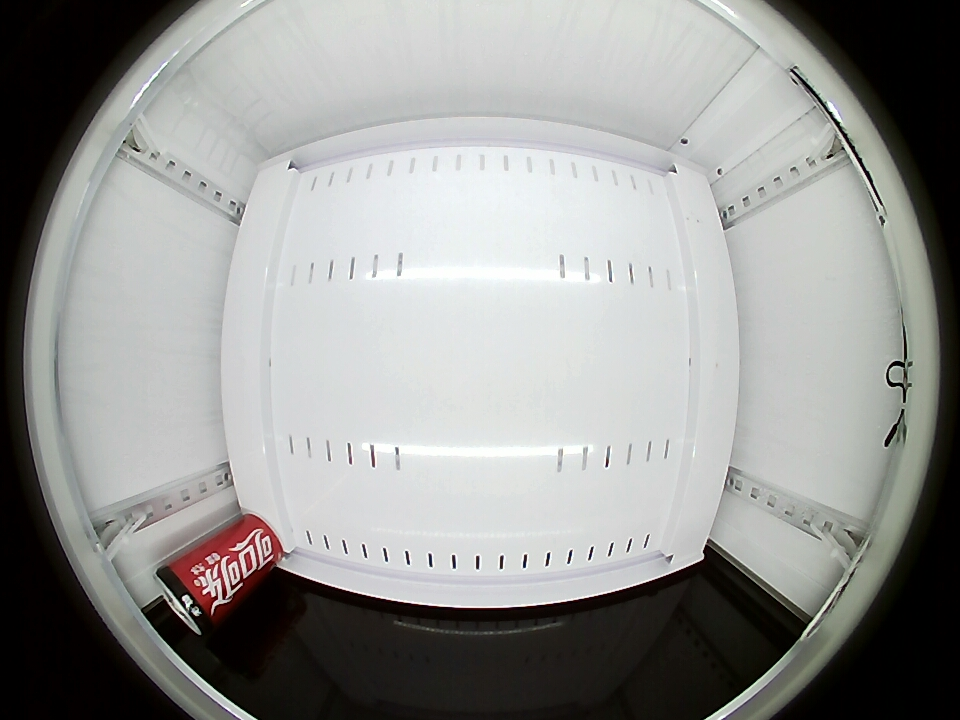lingdukele: (154, 555, 223, 635)
